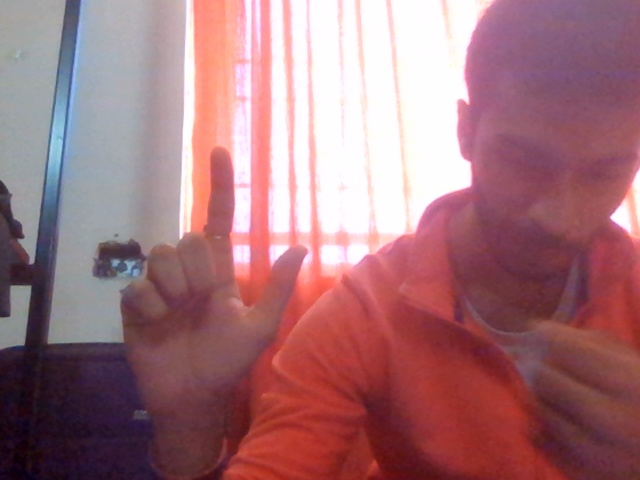L: (95, 128, 351, 460)
